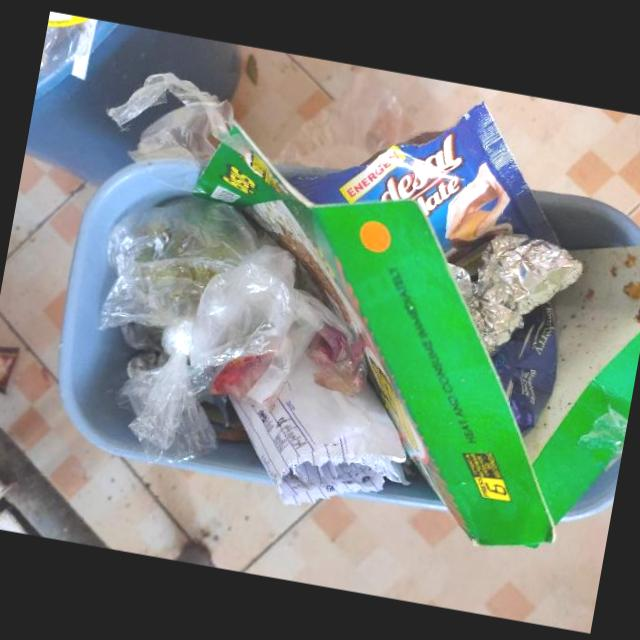bao_bi_thuc_pham: (489, 306, 560, 435)
carton: (193, 123, 640, 549)
giay: (229, 357, 412, 506)
goi_nhua_nho: (287, 103, 559, 282)
nhom: (449, 233, 582, 351)
tui_ni_long: (100, 195, 365, 463), (106, 72, 234, 167)
